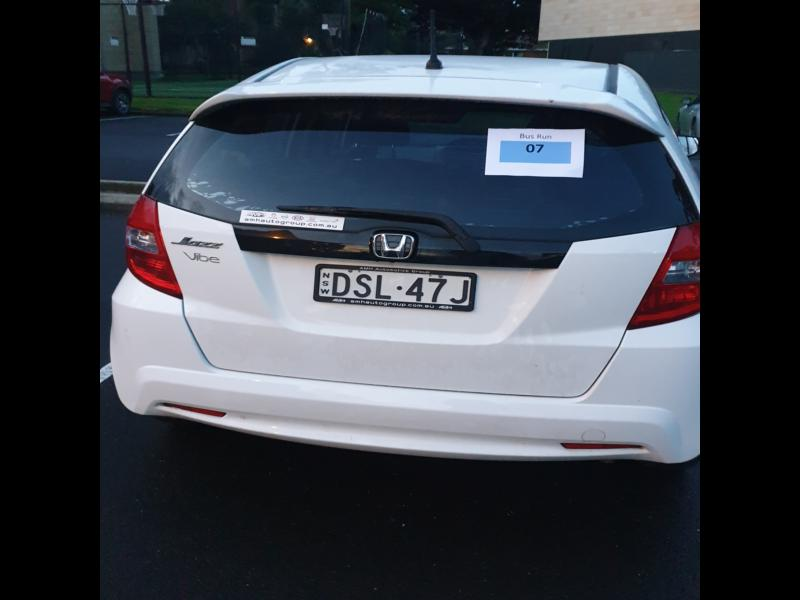BusRun: (499, 139, 572, 164)
PlateNo: (316, 266, 472, 308)
